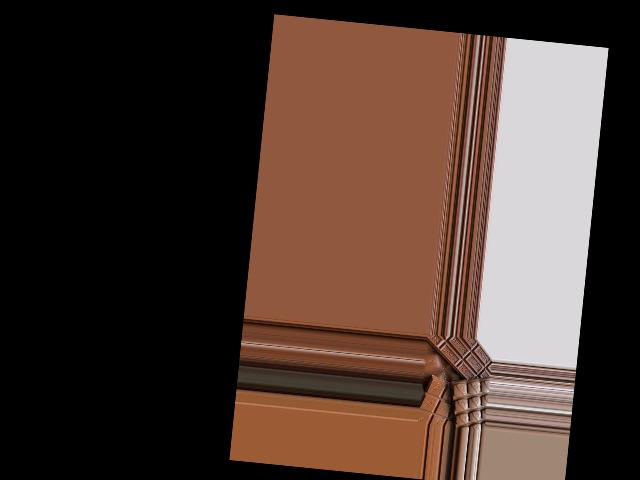chocolate: (421, 375, 465, 428)
